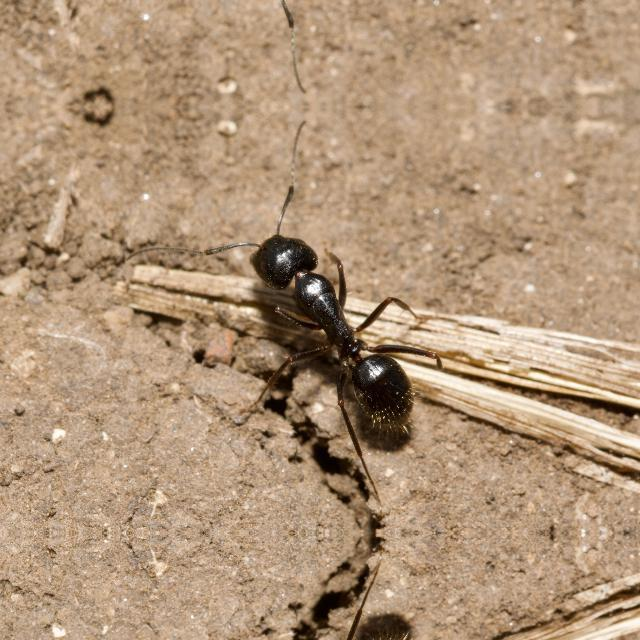Camponotus: (212, 198, 458, 440)
